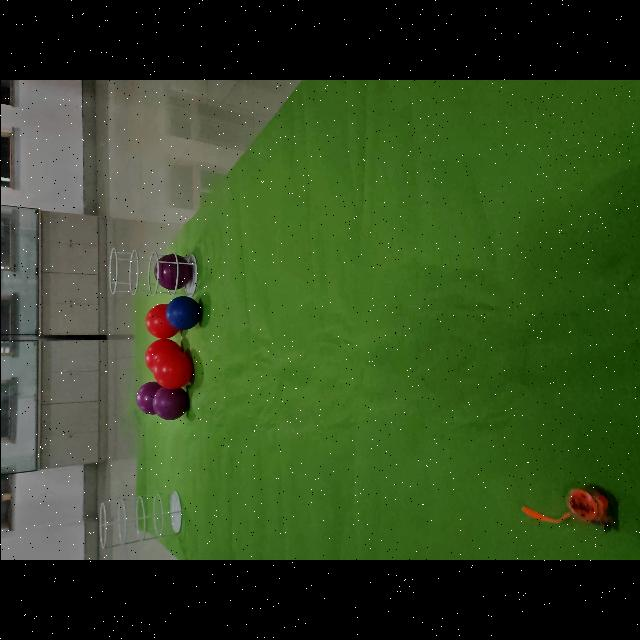B: (164, 295, 203, 331)
P: (150, 252, 194, 288), (132, 378, 168, 416), (155, 252, 193, 288), (152, 388, 192, 420)
R: (156, 349, 194, 388), (143, 338, 181, 374), (142, 302, 178, 338)
S: (88, 484, 190, 556), (101, 241, 203, 293)
